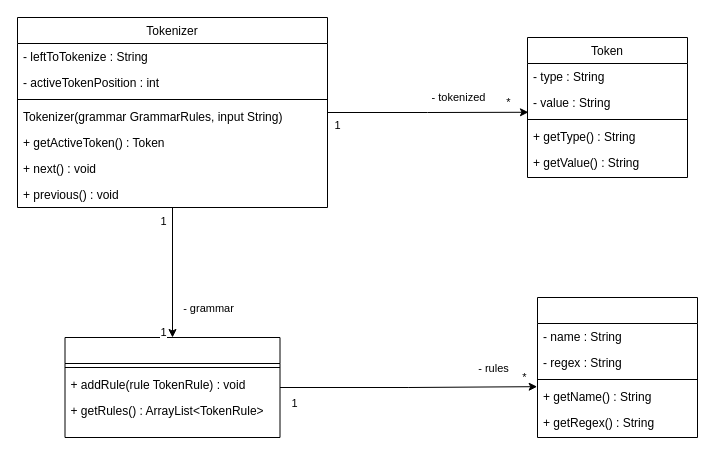
The diagram is 715 pixels wide and 456 high, and some of its shapes have lost their labels. Each missing label, with the box of its shape:
GrammarRules: (64, 336, 280, 438)
TokenRule: (536, 296, 698, 438)
